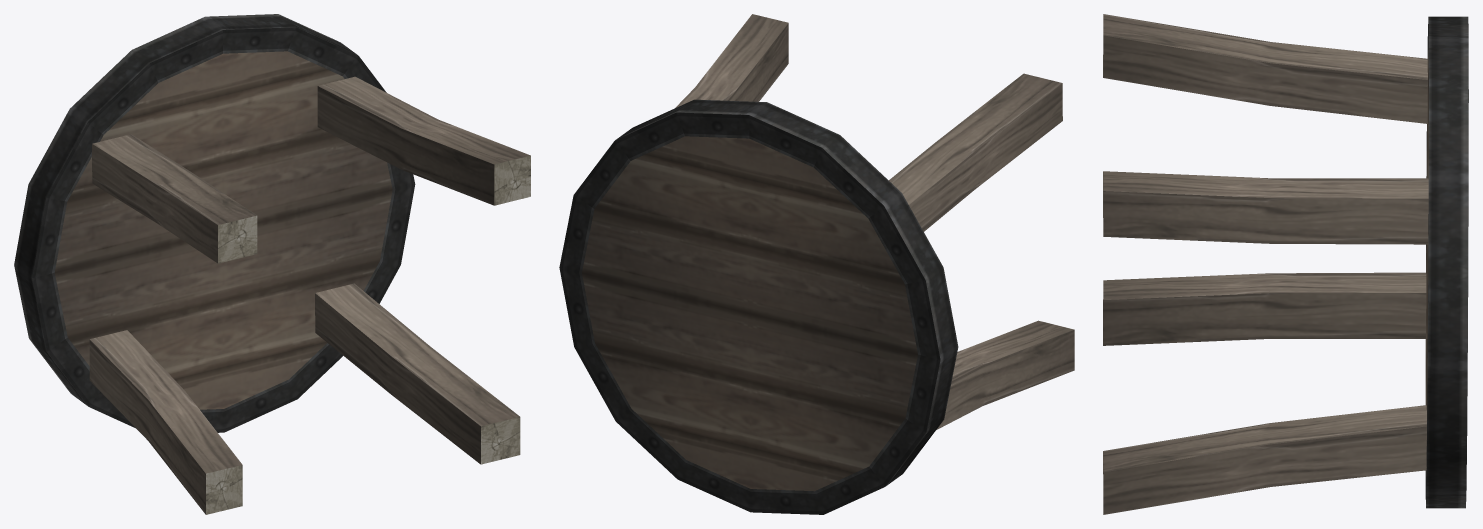
Rendered from Table_Round_Small_B.fbx.
3 renders of one model, left to right at view 1: azimuth 30°, elevation 25°; view 2: azimuth 150°, elevation 25°; view 3: azimuth 270°, elevation 25°, orthographic. The views are drawn at different scales.
Parts seen in each view (by area): view 1: Table_Round_Small_B; view 2: Table_Round_Small_B; view 3: Table_Round_Small_B.
Part boxes in pixels (x1=…): Table_Round_Small_B: x1=14, y1=14, x2=530, y2=514; Table_Round_Small_B: x1=559, y1=14, x2=1074, y2=514; Table_Round_Small_B: x1=1103, y1=14, x2=1468, y2=514.
Size of the model in its own units: 1.25 by 1.25 by 0.9303.
